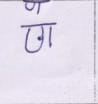aa_matra: (49, 26, 52, 46)
